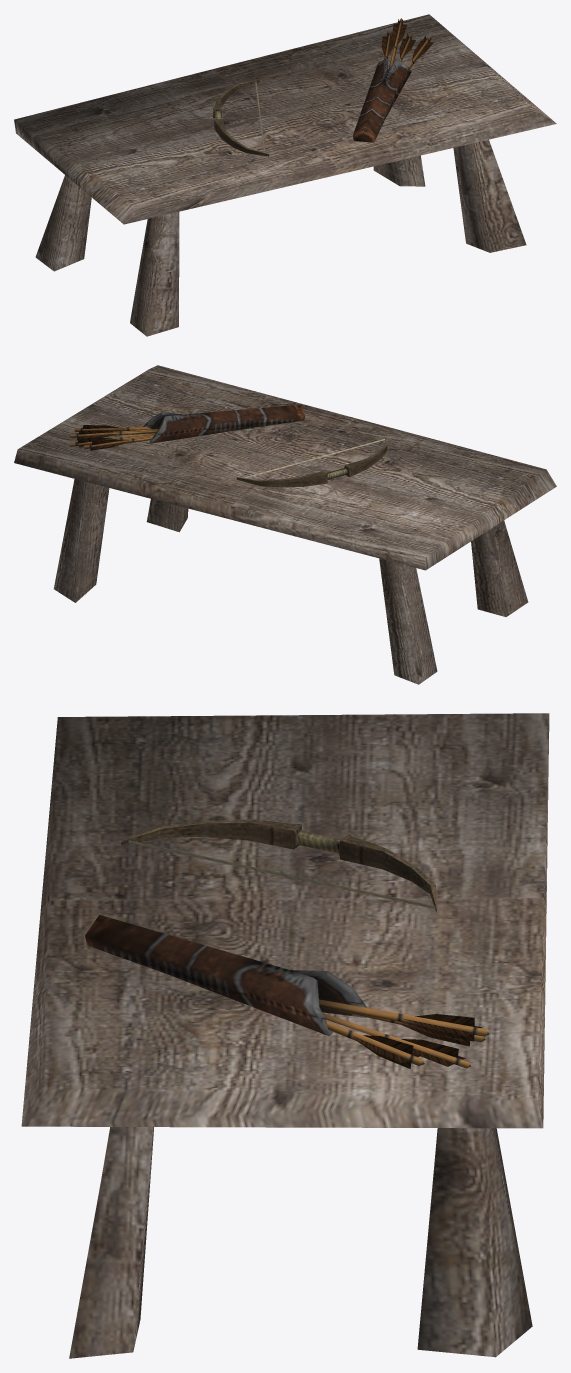
The model's file is d_yz_shouyou_gongjian01_qt.FBX.
The picture shows the model from 3 angles, top to bottom: view 1: azimuth 30°, elevation 25°; view 2: azimuth 150°, elevation 25°; view 3: azimuth 270°, elevation 25°; orthographic projection. The views are drawn at different scales.
Parts seen in each view (by area): view 1: d_sg_shouyou_louti01_qt; view 2: d_sg_shouyou_louti01_qt; view 3: d_sg_shouyou_louti01_qt.
Boxes of the visible parts, bbox=[...] form: d_sg_shouyou_louti01_qt: bbox=[14, 14, 556, 336]; d_sg_shouyou_louti01_qt: bbox=[14, 365, 556, 684]; d_sg_shouyou_louti01_qt: bbox=[21, 713, 549, 1358].
Bounding box in the file's own units: 2.41 × 0.8751 × 1.3.
